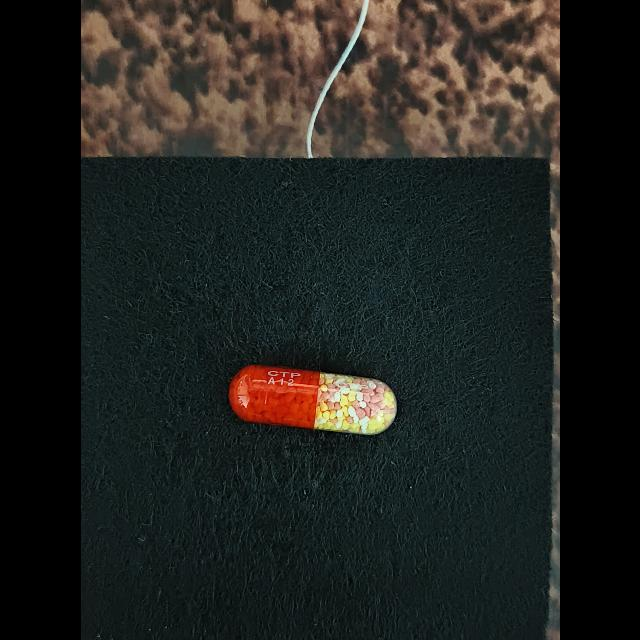Intact Capsule: (228, 365, 396, 435)
